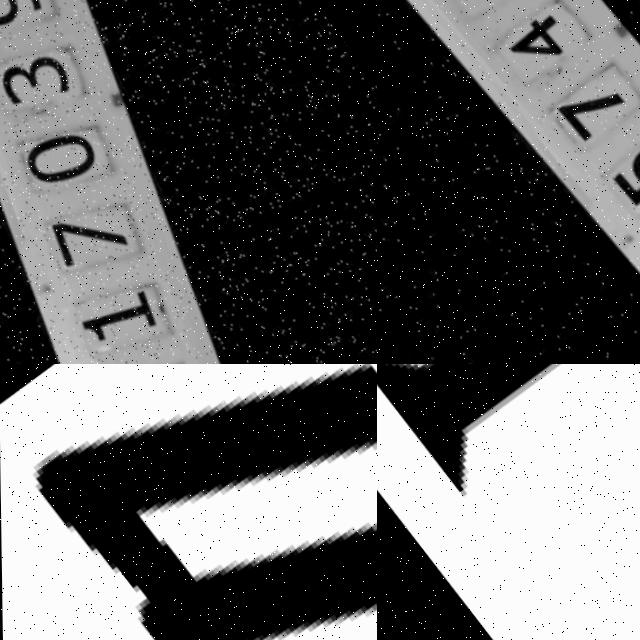0: (0, 90, 125, 225)
1: (48, 251, 181, 364)
3: (0, 12, 97, 144)
4: (484, 0, 593, 97), (434, 0, 539, 31)
5: (593, 116, 640, 227)
7: (24, 170, 151, 301), (536, 51, 640, 164)
8: (81, 327, 212, 364)
9: (0, 0, 68, 64)
J: (377, 364, 640, 640)
M: (9, 364, 377, 640)
